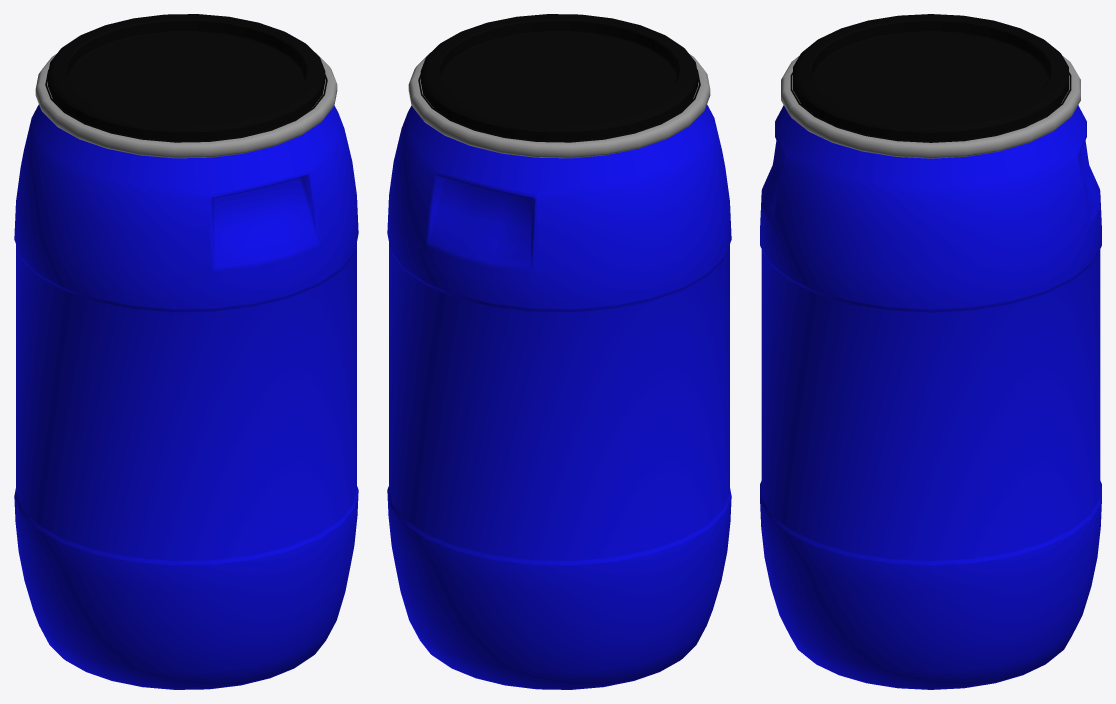
File: Barrel_high.fbx
3 views of the same model, side by side, from view 1: azimuth 30°, elevation 25°; view 2: azimuth 150°, elevation 25°; view 3: azimuth 270°, elevation 25° (orthographic).
Parts seen in each view (by area): view 1: Barrel_high; view 2: Barrel_high; view 3: Barrel_high.
Part boxes in pixels (x1,y1,x2,y2): Barrel_high: (14,14,358,689); Barrel_high: (387,14,731,689); Barrel_high: (760,14,1101,689).
Bounding box in the file's own units: 488 × 880 × 485.
